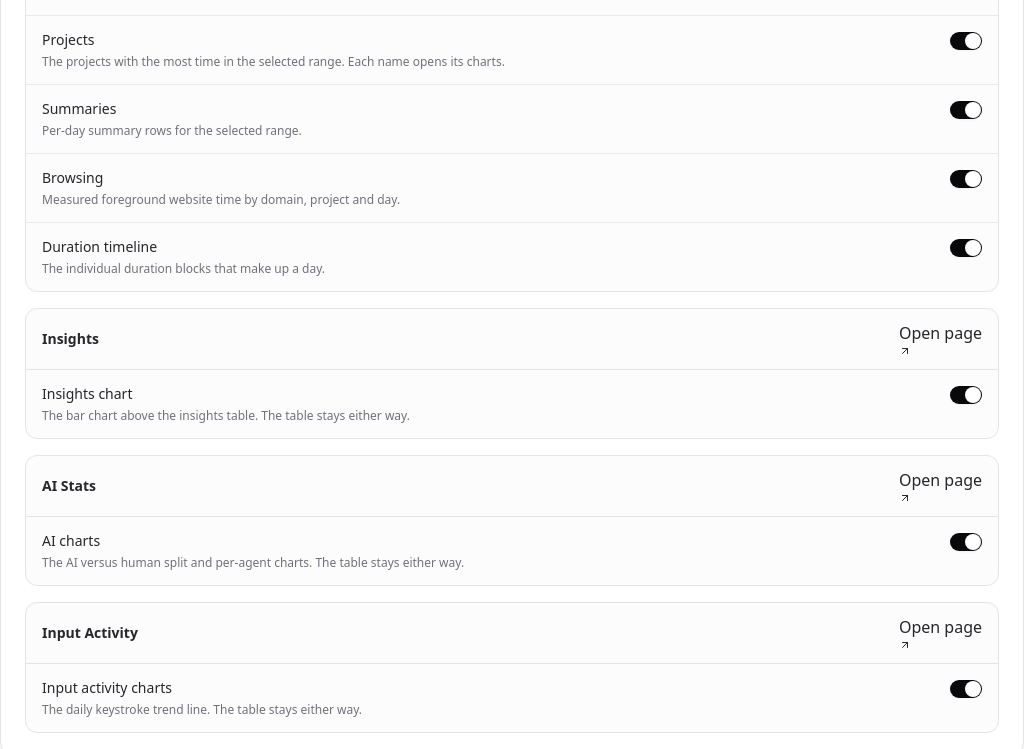
Test: DashboardPanelsPanel › hides a panel, records it in the cookie, and counts it
The image size is (1024, 749).
(page scrolled)
Click the switch with test id "panel-switch-insights.chart" at [966, 395], box [950,386,982,404]
(page scrolled)
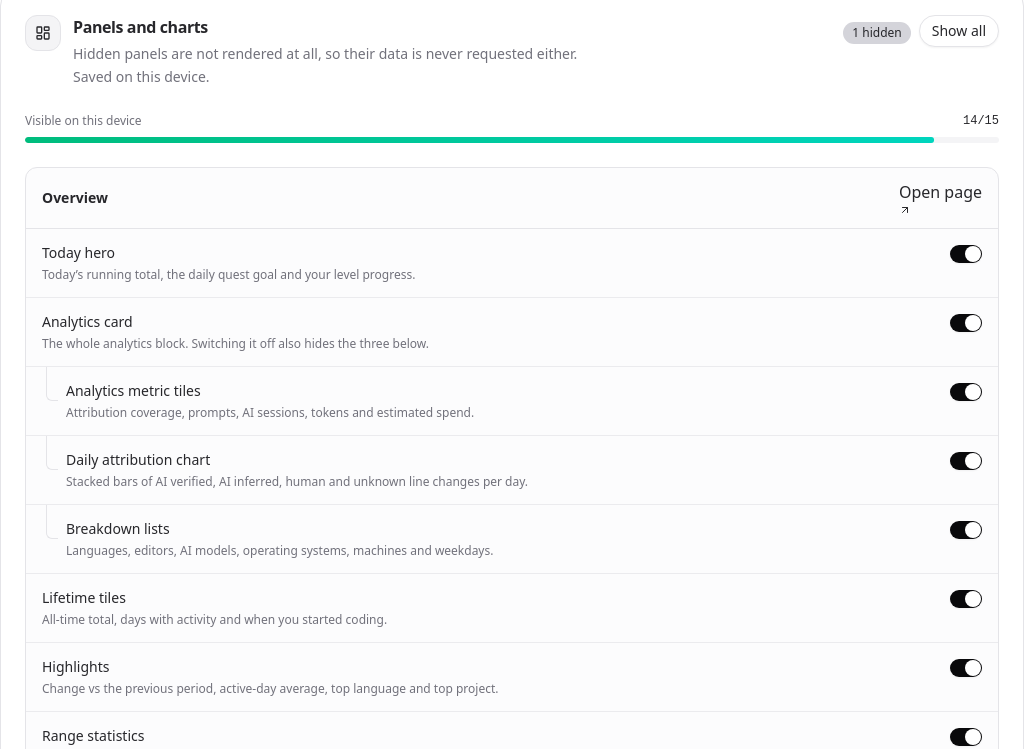
Check: the text with test id "dashboard-panels-hidden-count" reads "1 hidden", box [843,22,911,44]
